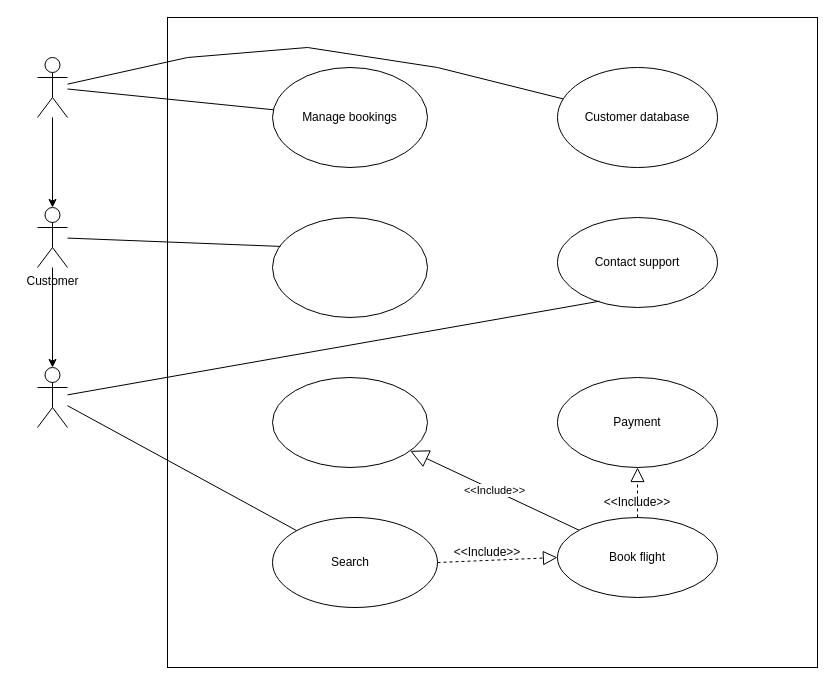
The diagram is 835 pixels wide and 685 high, and some of its shapes have lost their labels. Here are the shapes that lost their labels. From the top down, the centre of each, then its label:
At point (52, 87): "Administrator".
At point (350, 267): "Bonus program".
At point (52, 397): "Guest".
At point (350, 422): "Cancel/alter booking".
